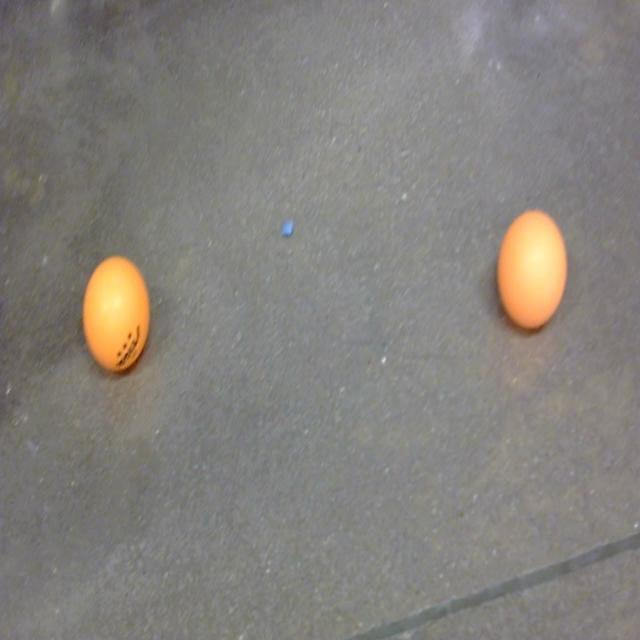ball: (496, 203, 570, 335), (81, 250, 154, 377)
